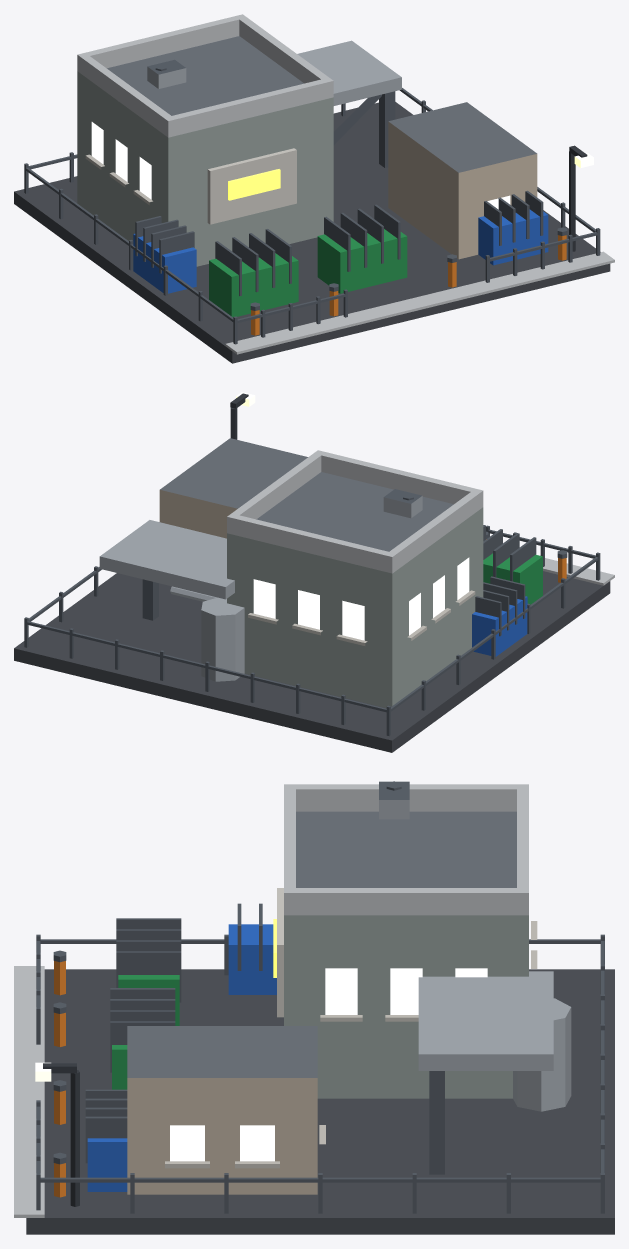
3 views of the same model, one above another, from view 1: azimuth 30°, elevation 25°; view 2: azimuth 150°, elevation 25°; view 3: azimuth 270°, elevation 25° (orthographic). The views are drawn at different scales.
Parts seen in each view (by area): view 1: b39_v2; view 2: b39_v2; view 3: b39_v2.
Part boxes in pixels (<box>): b39_v2: <box>14,14,614,363</box>; b39_v2: <box>14,392,614,752</box>; b39_v2: <box>14,781,614,1234</box>.
Size of the model in its own units: 0.96 by 0.439 by 0.98.
